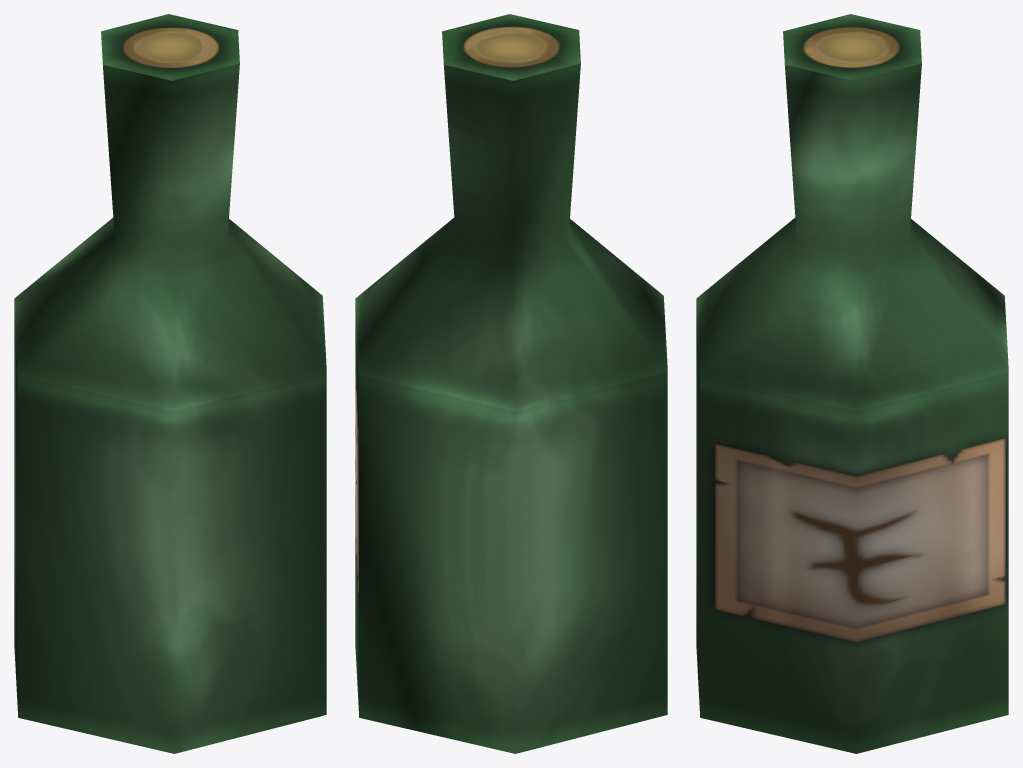
The model's file is potion_03.fbx.
3 renders of one model, left to right at view 1: azimuth 30°, elevation 25°; view 2: azimuth 150°, elevation 25°; view 3: azimuth 270°, elevation 25°, orthographic.
Visible parts, largest first — view 1: potion_03Mesh; view 2: potion_03Mesh; view 3: potion_03Mesh.
Part boxes in pixels (bbox=[...]): potion_03Mesh: bbox=[14, 14, 326, 753]; potion_03Mesh: bbox=[355, 14, 667, 753]; potion_03Mesh: bbox=[696, 14, 1008, 753].
Bounding box in the file's own units: 0.4325 × 0.8452 × 0.3794.
